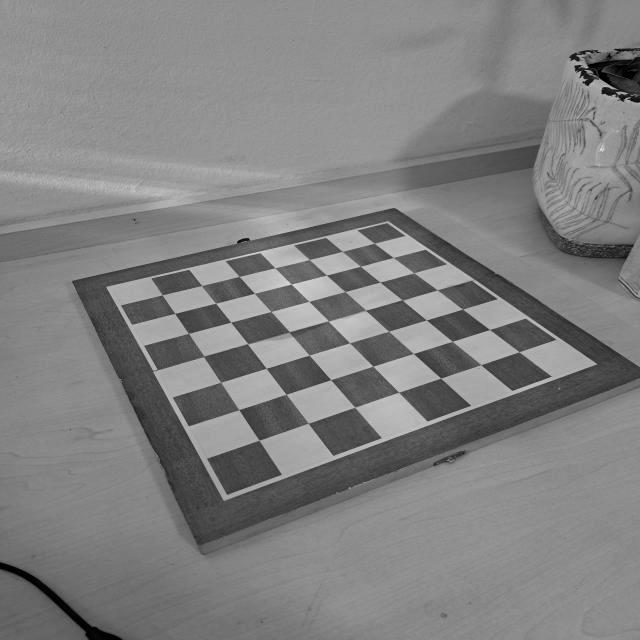chess-table-corners: (211, 484, 242, 505), (99, 281, 123, 296), (578, 356, 601, 371), (380, 219, 394, 229)
